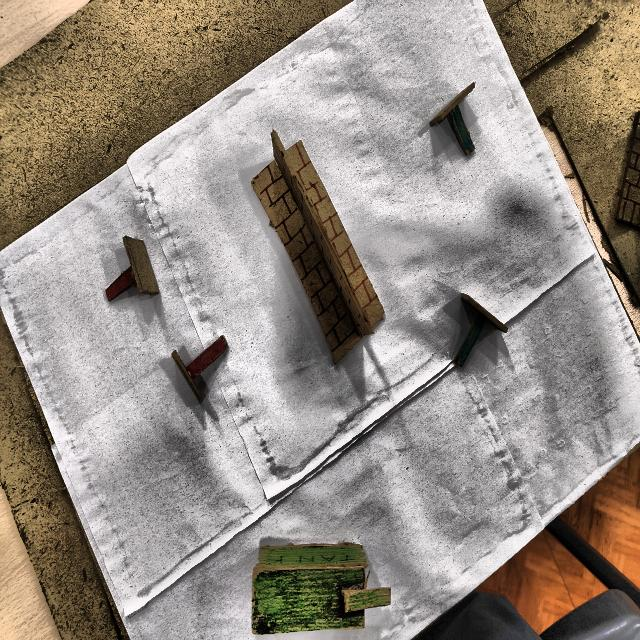Dead soldier -enemy-: (170, 331, 234, 408), (102, 236, 160, 304)
Dead soldier -frd-: (450, 292, 511, 375), (427, 81, 481, 170)
Tank: (251, 543, 391, 638)
Wall: (249, 132, 387, 366)
